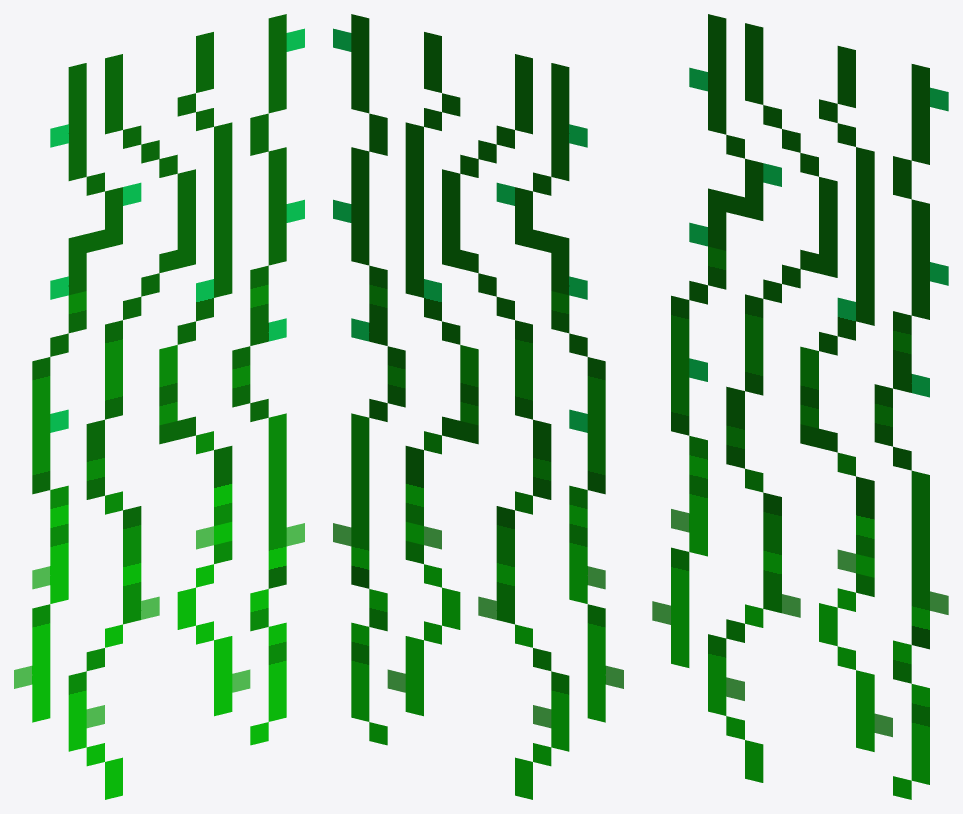
The model's file is Enredadera 2.fbx.
The picture shows the model from 3 angles, left to right: view 1: azimuth 30°, elevation 25°; view 2: azimuth 150°, elevation 25°; view 3: azimuth 330°, elevation 25°; orthographic projection.
Parts seen in each view (by area): view 1: enredadera_2:Mesh; view 2: enredadera_2:Mesh; view 3: enredadera_2:Mesh.
Boxes of the visible parts, x1=… form: enredadera_2:Mesh: x1=14, y1=14, x2=304, y2=799; enredadera_2:Mesh: x1=333, y1=14, x2=623, y2=799; enredadera_2:Mesh: x1=652, y1=14, x2=948, y2=799.
Bounding box in the file's own units: 1.6 × 3.9 × 0.
